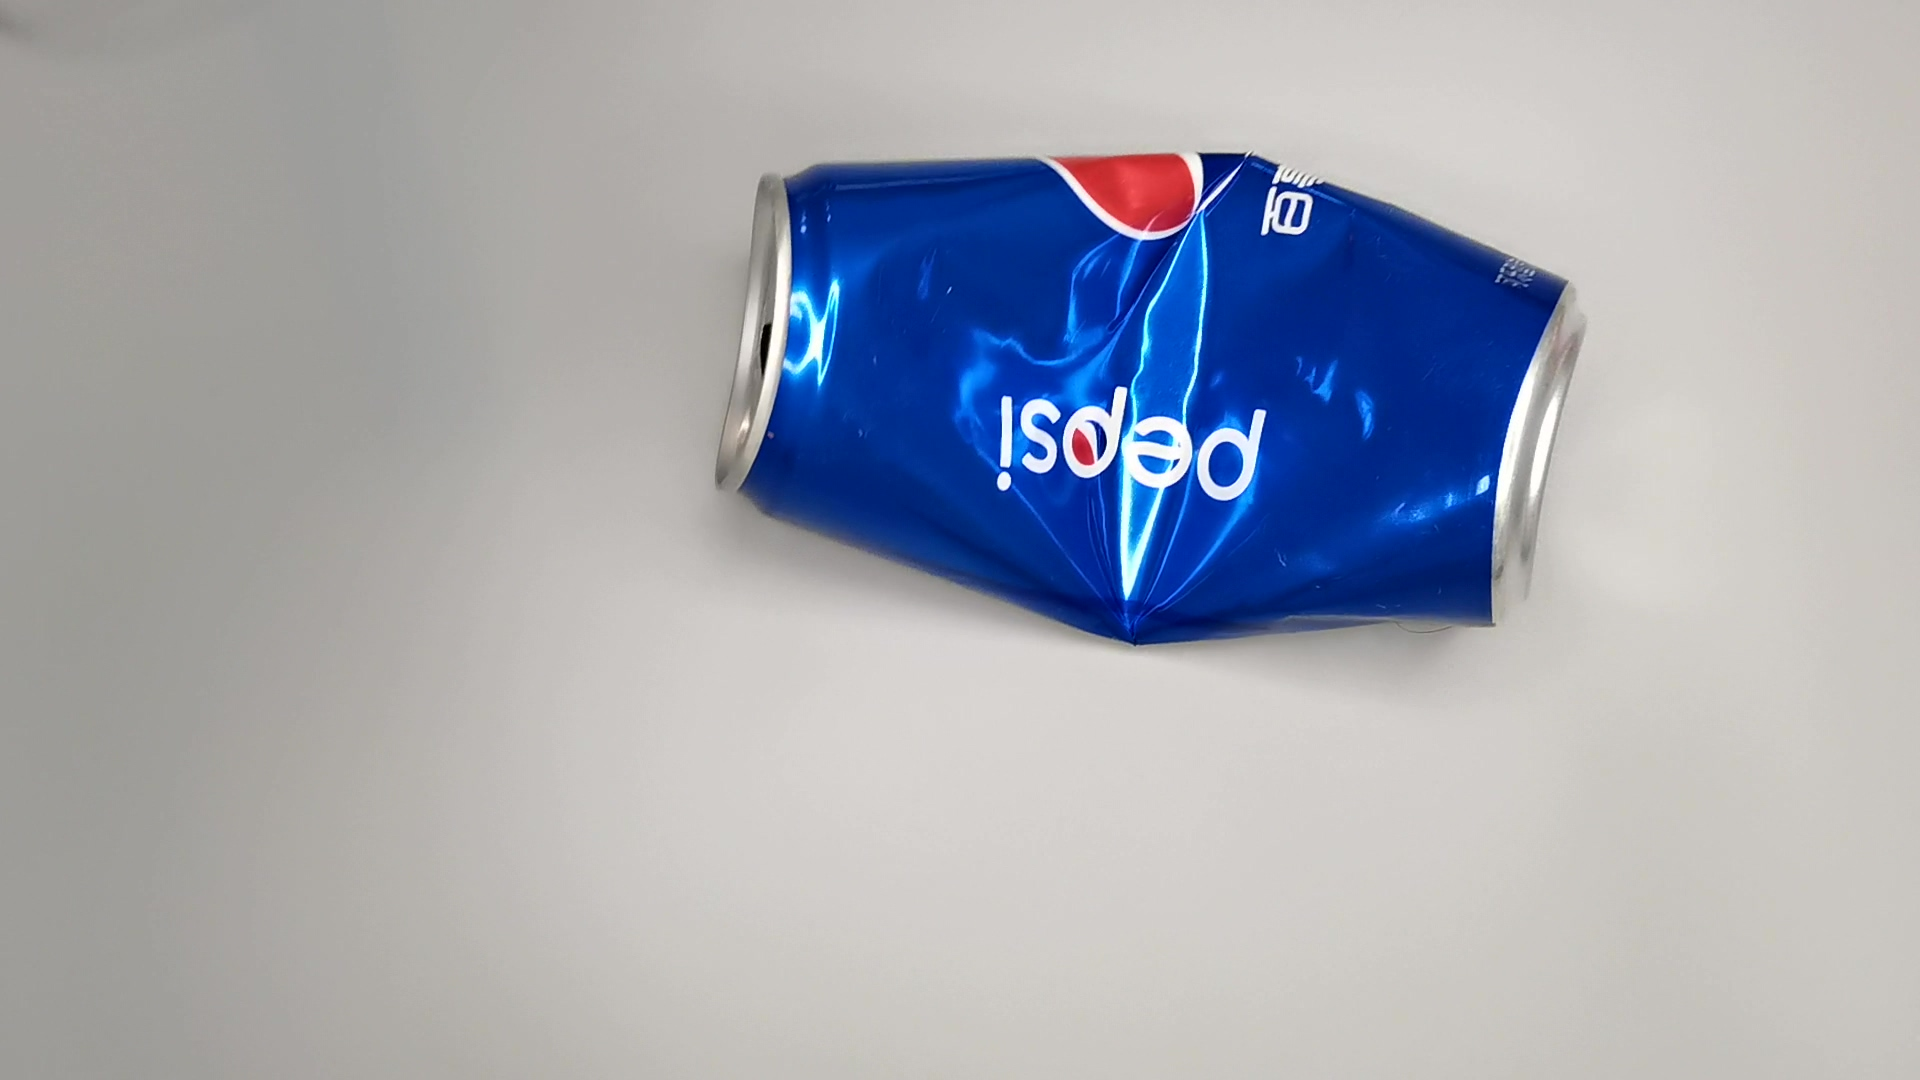can: (708, 148, 1600, 671)
